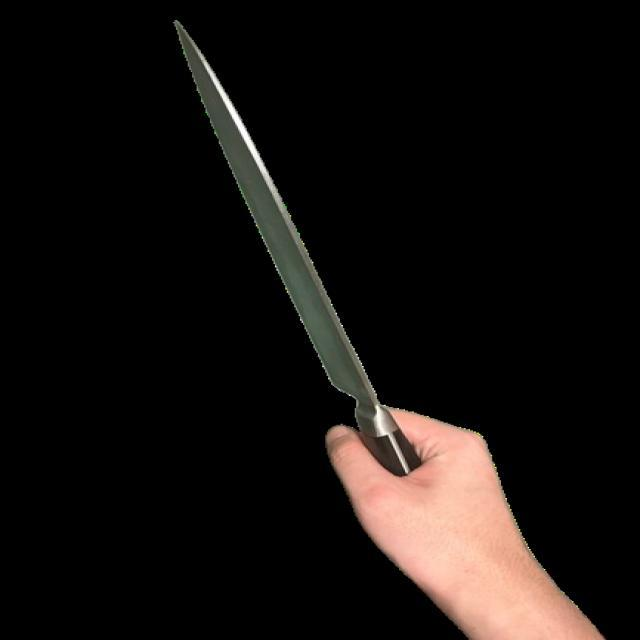knife: (156, 2, 427, 479)
